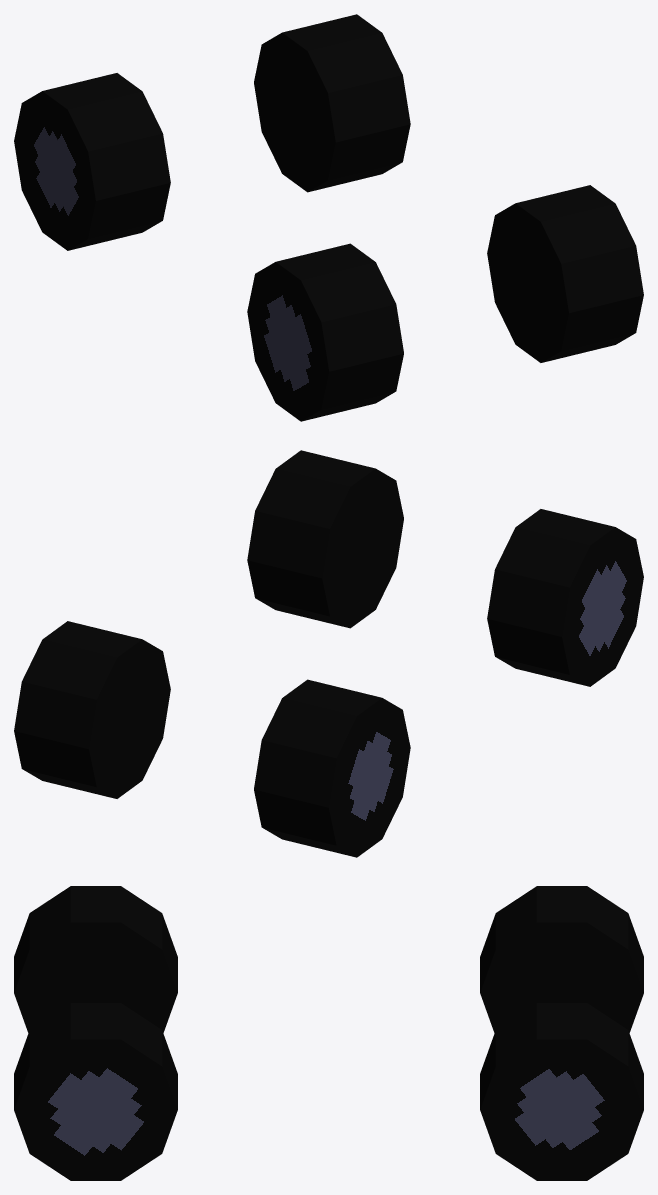
Rendered from car_wheels.glb.
The picture shows the model from 3 angles, top to bottom: view 1: azimuth 30°, elevation 25°; view 2: azimuth 150°, elevation 25°; view 3: azimuth 270°, elevation 25°; orthographic projection.
Visible parts, largest first — view 1: Wheels; view 2: Wheels; view 3: Wheels.
Part boxes in pixels (<box>): Wheels: <box>14,14,643,421</box>; Wheels: <box>14,450,643,857</box>; Wheels: <box>14,886,643,1180</box>.
Bounding box in the file's own units: 1.72 × 0.7377 × 2.98.
Materials: 1 (1 with a texture image).
